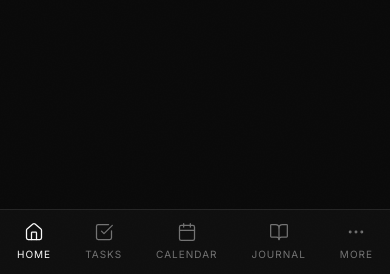
Test: More tray closes after navigating
Click the button "MORE". click: x=356, y=242
box: [340,222,373,262]
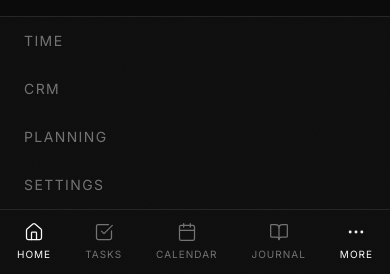
Click the link "TIME". click: x=44, y=40
box: [24,32,64,49]
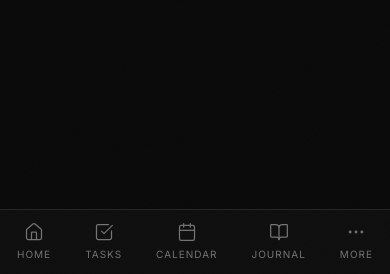
Result: the link "CRM" is gone
